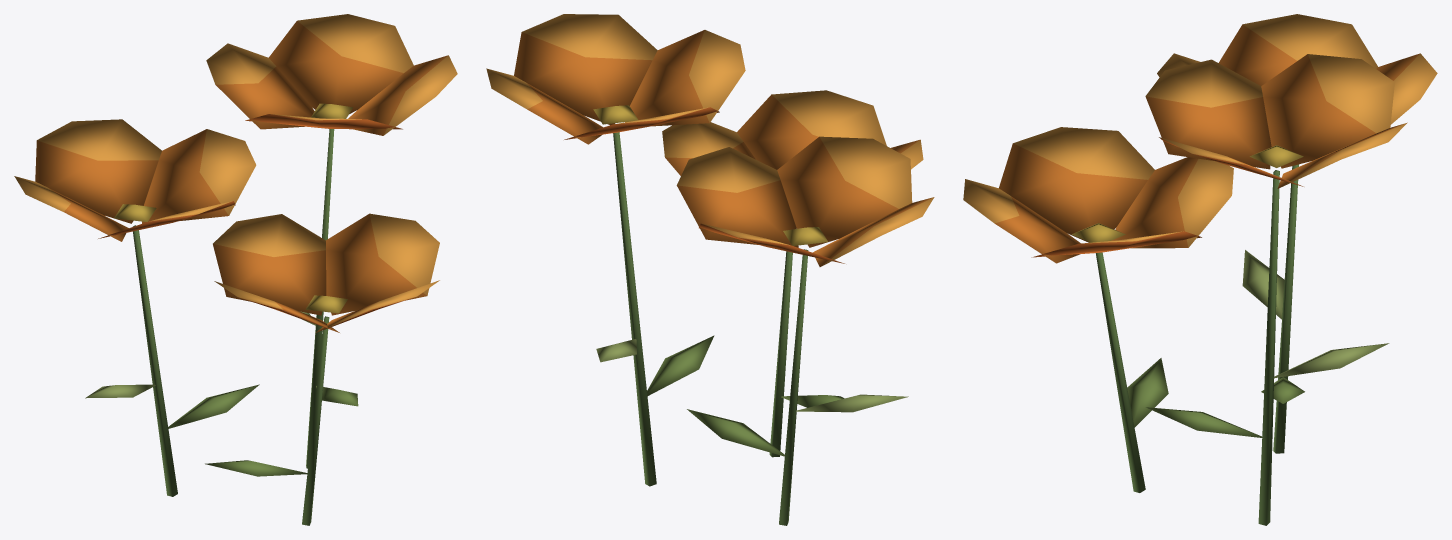
Rendered from alc_flowers_poppy.glb.
3 views of the same model, side by side, from view 1: azimuth 30°, elevation 25°; view 2: azimuth 150°, elevation 25°; view 3: azimuth 270°, elevation 25° (orthographic). The views are drawn at different scales.
Visible parts, largest first — view 1: alc_flowers_poppy; view 2: alc_flowers_poppy; view 3: alc_flowers_poppy.
Boxes of the visible parts, x1=… form: alc_flowers_poppy: x1=14, y1=14, x2=457, y2=525; alc_flowers_poppy: x1=486, y1=14, x2=934, y2=525; alc_flowers_poppy: x1=963, y1=14, x2=1437, y2=525.
Size of the model in its own units: 0.7467 by 0.6964 by 0.6925.
